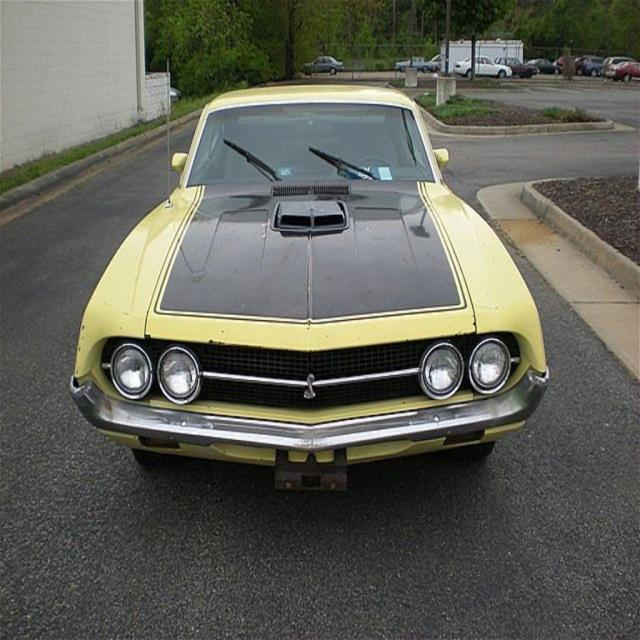car: (60, 92, 555, 492)
